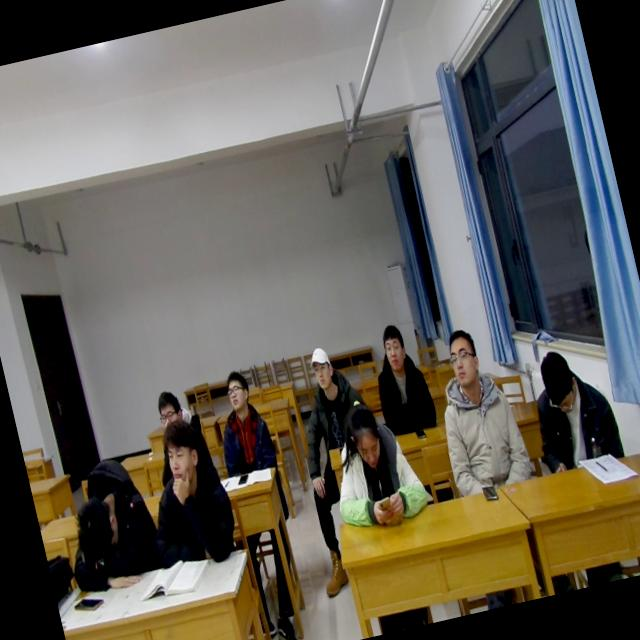bow: (47, 445, 167, 595)
down: (337, 394, 392, 482), (532, 343, 585, 421)
lookup: (154, 412, 208, 496), (436, 316, 488, 391), (373, 316, 412, 381), (301, 340, 342, 397), (148, 382, 189, 433), (218, 366, 255, 418)
sit: (418, 316, 538, 502), (124, 416, 246, 574), (314, 381, 434, 535), (517, 333, 627, 478), (362, 318, 442, 440), (284, 339, 370, 452), (200, 365, 281, 480), (142, 378, 204, 452)
